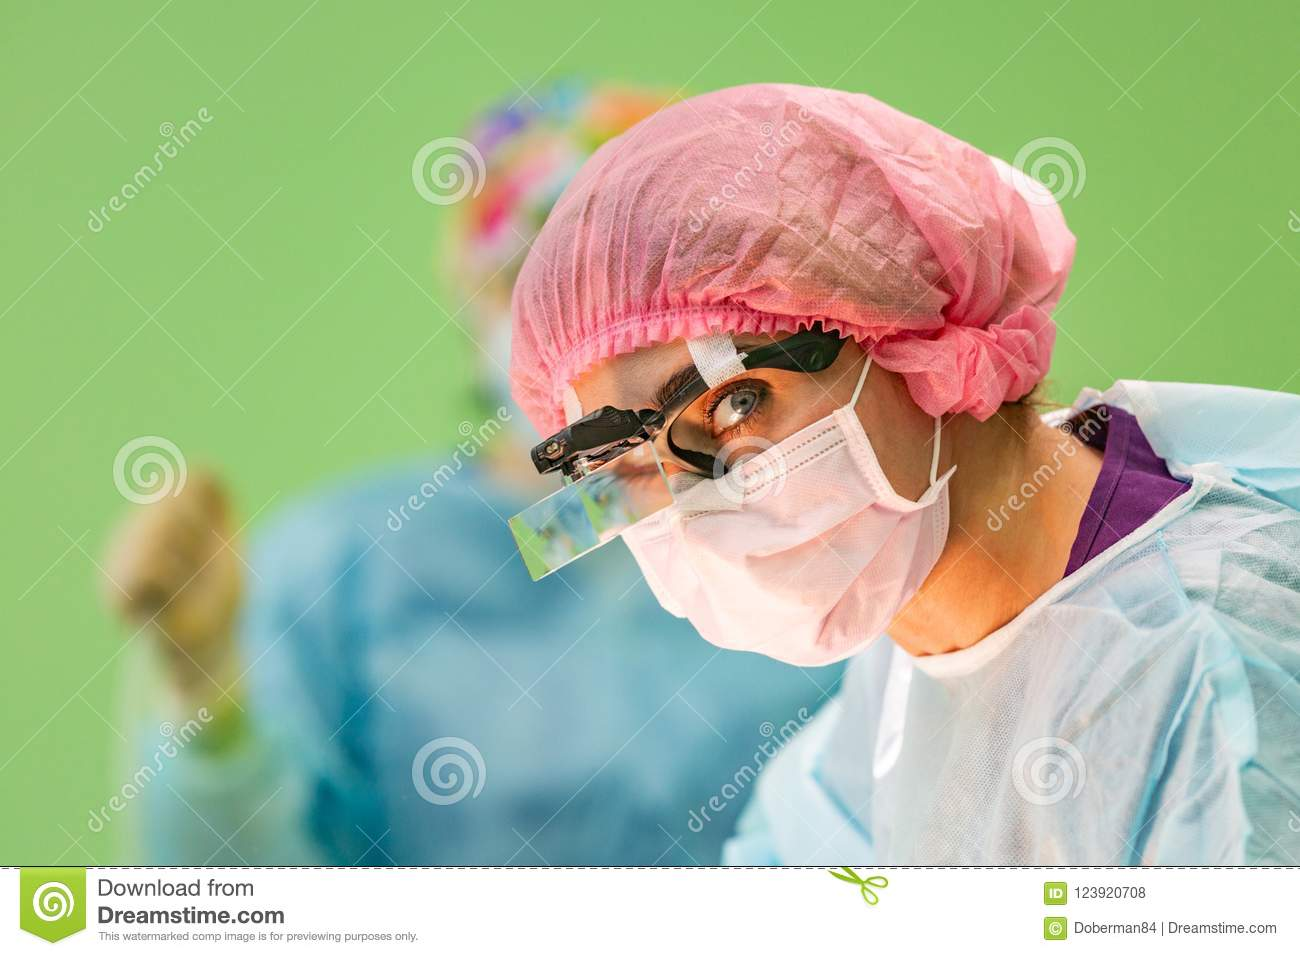mask: (574, 437, 973, 656)
